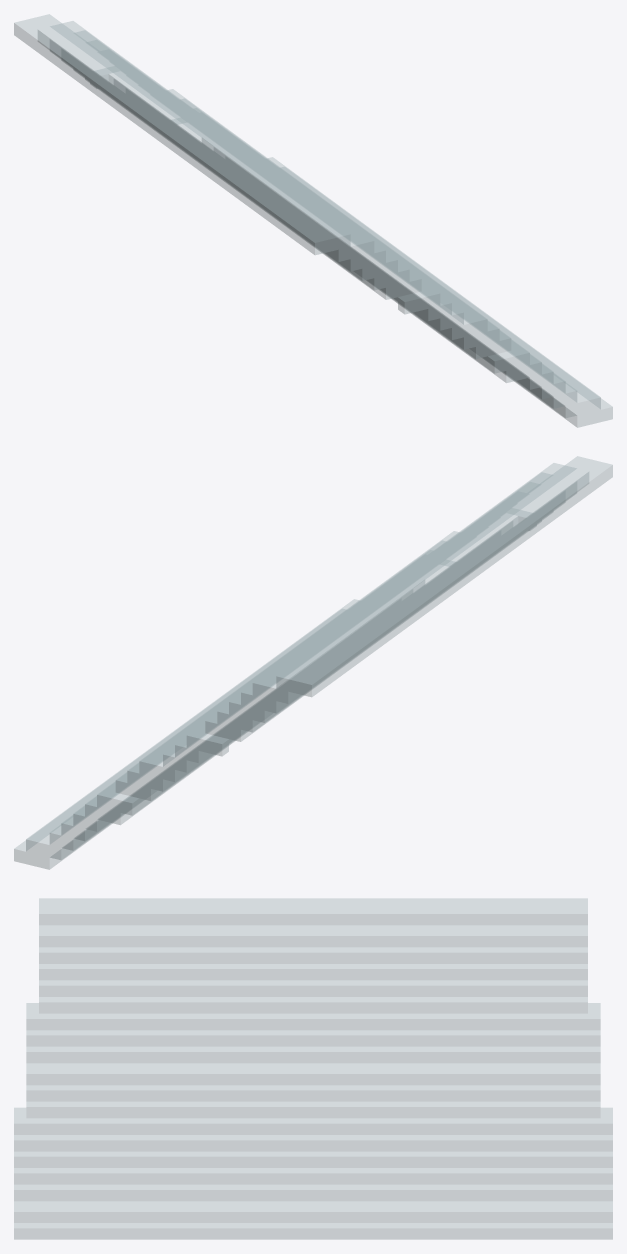
File: hearse_windscreen.glb
3 views of the same model, one above another, from view 1: azimuth 30°, elevation 25°; view 2: azimuth 150°, elevation 25°; view 3: azimuth 270°, elevation 25° (orthographic). The views are drawn at different scales.
Visible parts, largest first — view 1: body:compound; view 2: body:compound; view 3: body:compound.
Boxes of the visible parts, x1,y1,x2,y2 form: body:compound: [14, 14, 612, 427]; body:compound: [14, 456, 612, 869]; body:compound: [14, 898, 612, 1239].
Size of the model in its own units: 0.75 by 0.5938 by 1.5.
